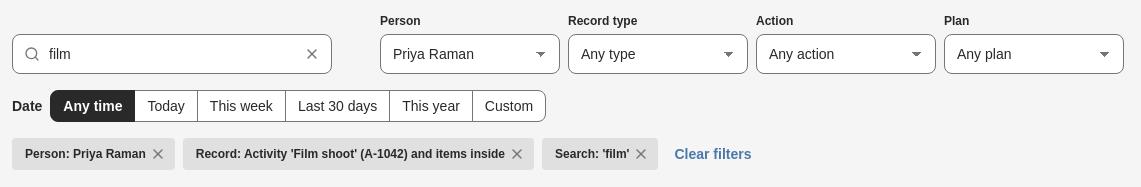
Test: LogFilterBar › removes one filter per chip, and every filter with Clear filters (FR-003)
Expected: the button named "Remove filter: Record: Activity 'Film shoot' (A-1042) and items inside" is shown, [183,138,534,170]
Click the button with aria-label "Remove filter: Person: Priya Raman": (93, 154) [12,138,175,170]
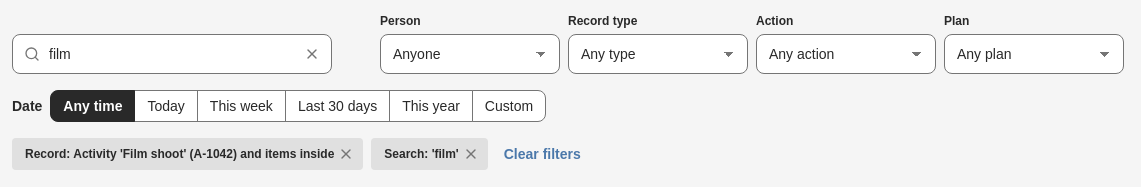
Click the button "Clear filters": (542, 154) [496,138,589,170]
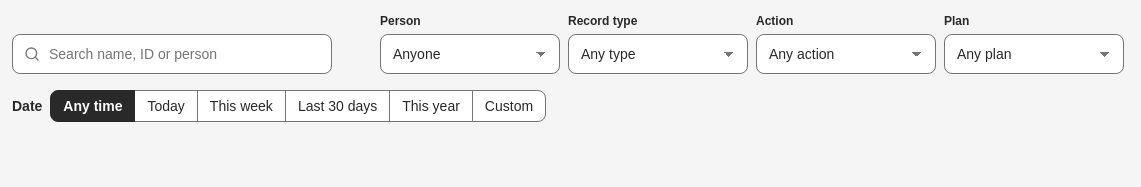
Result: the search field labelled "Search name, ID or person" is empty at [12,34,332,74]
